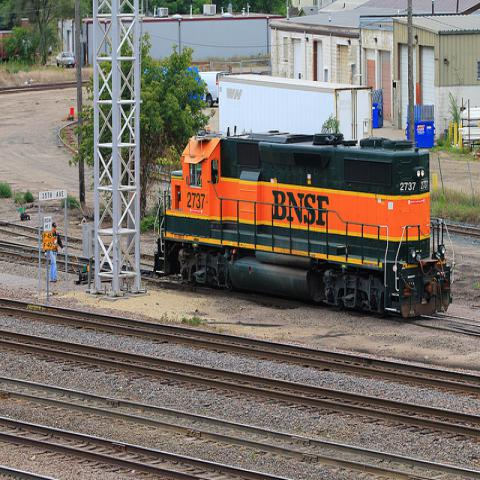car: (198, 71, 231, 106), (56, 51, 76, 68)
truck: (218, 74, 373, 146), (198, 70, 231, 108)
